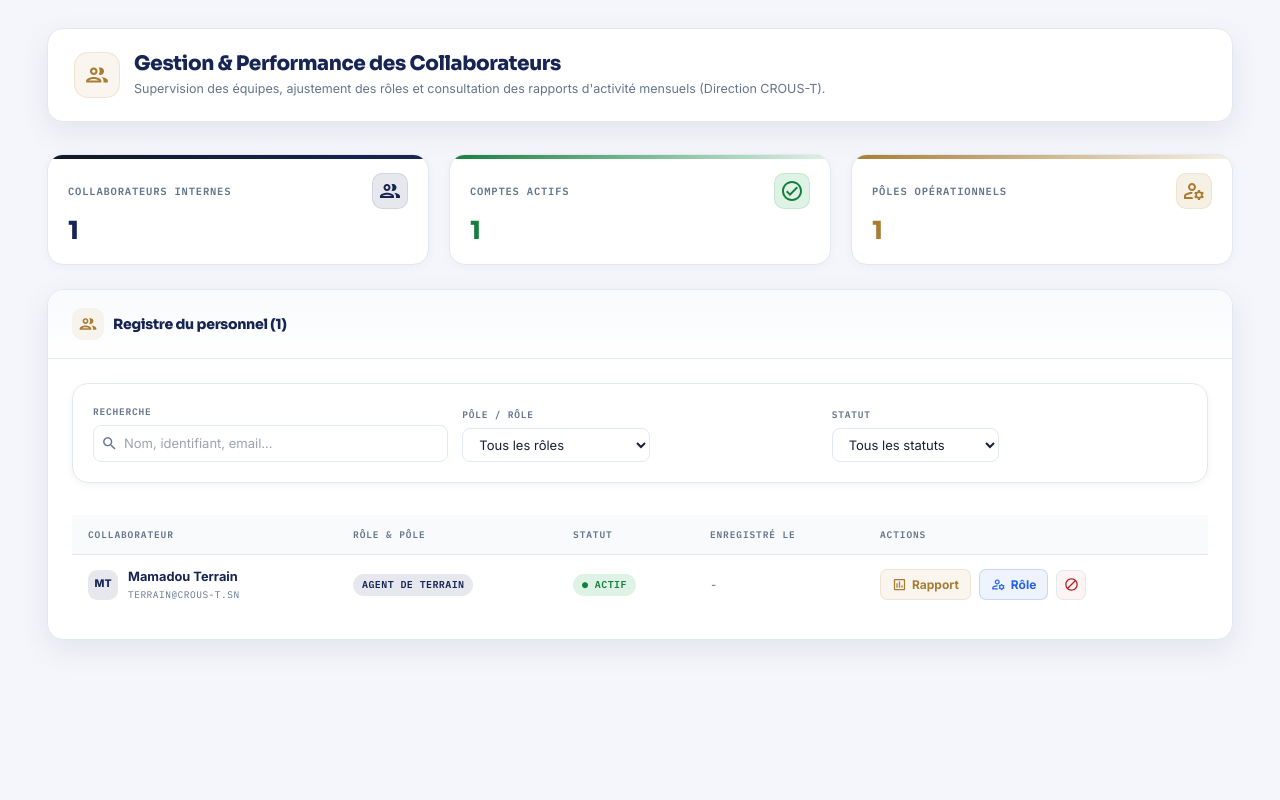
Test: GestionCollaborateurs › permet d ouvrir la modale d ajustement de rôle
Click the button "Rôle" at (1014, 585), box 979,569 -> 1048,600
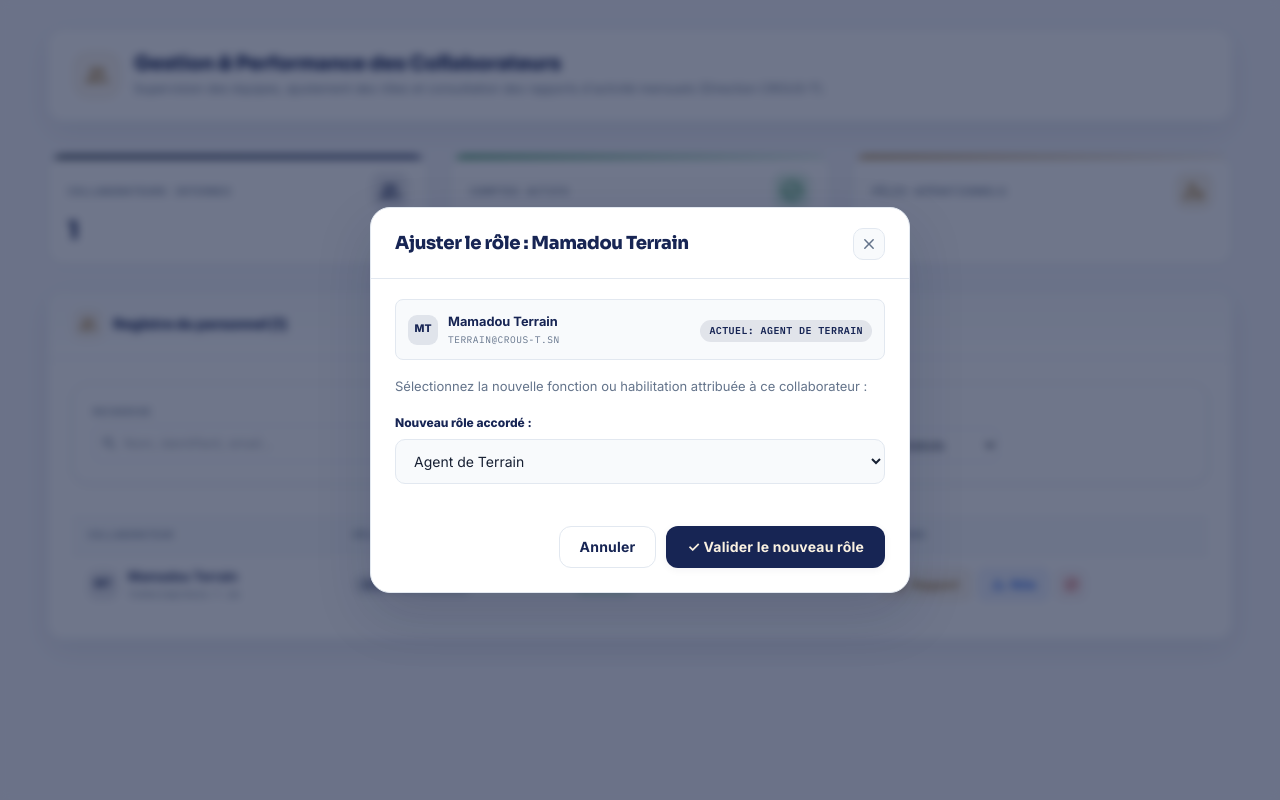
Now the heading "Ajuster le rôle : Mamadou Terrain" is shown, box 395,229 -> 689,258
Now the button "✓ Valider le nouveau rôle" is shown, box 666,526 -> 885,568
